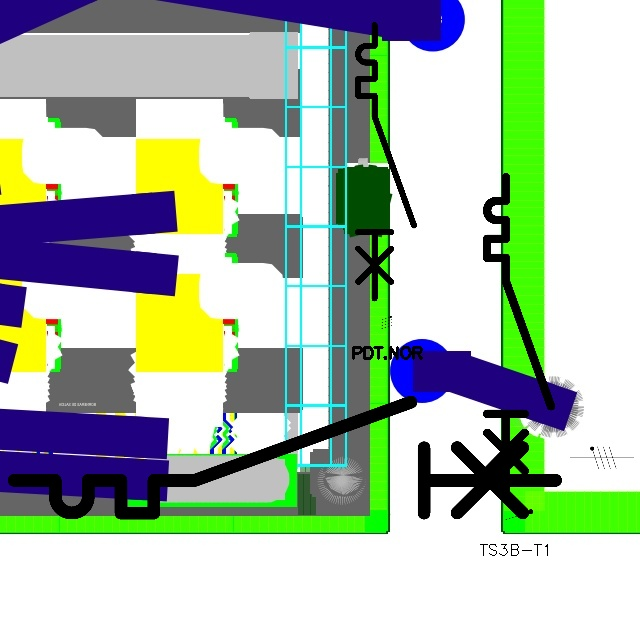interruptor_termomagnetico: (0, 388, 569, 527), (479, 169, 559, 497), (351, 18, 421, 306)
